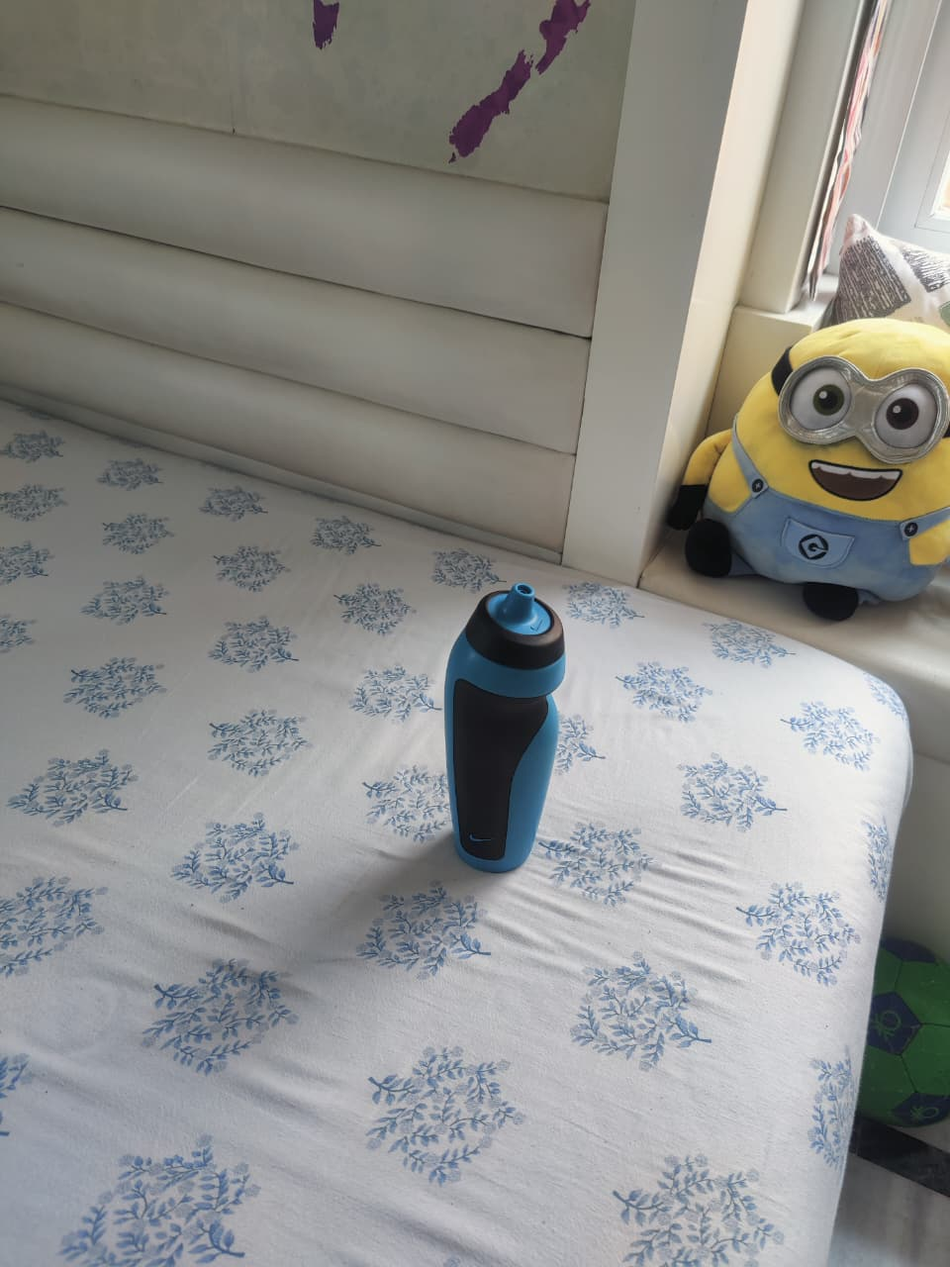bottle: (444, 582, 567, 874)
